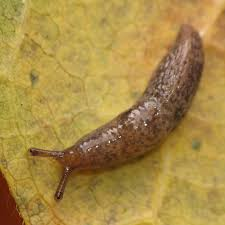slug: (27, 23, 203, 201)
